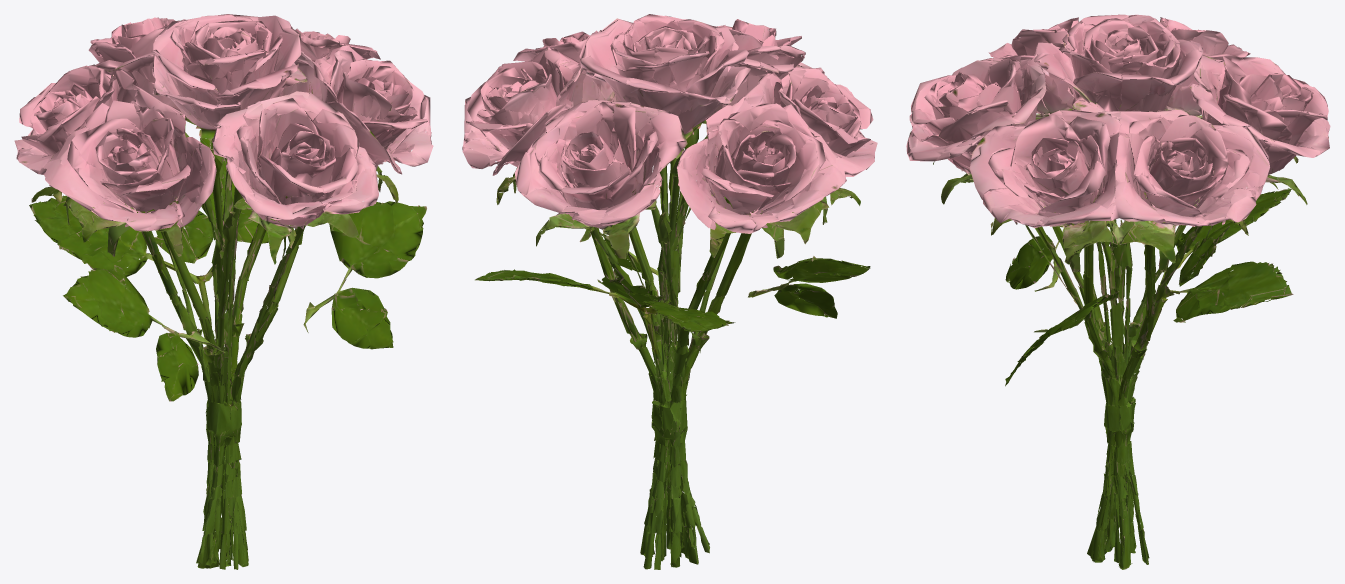
The model's file is Pinkrosesboquet.glb.
3 views of the same model, side by side, from view 1: azimuth 30°, elevation 25°; view 2: azimuth 150°, elevation 25°; view 3: azimuth 270°, elevation 25° (orthographic).
Size of the model in its own units: 1.48 by 2 by 1.46.
1 material, 1 textured.
